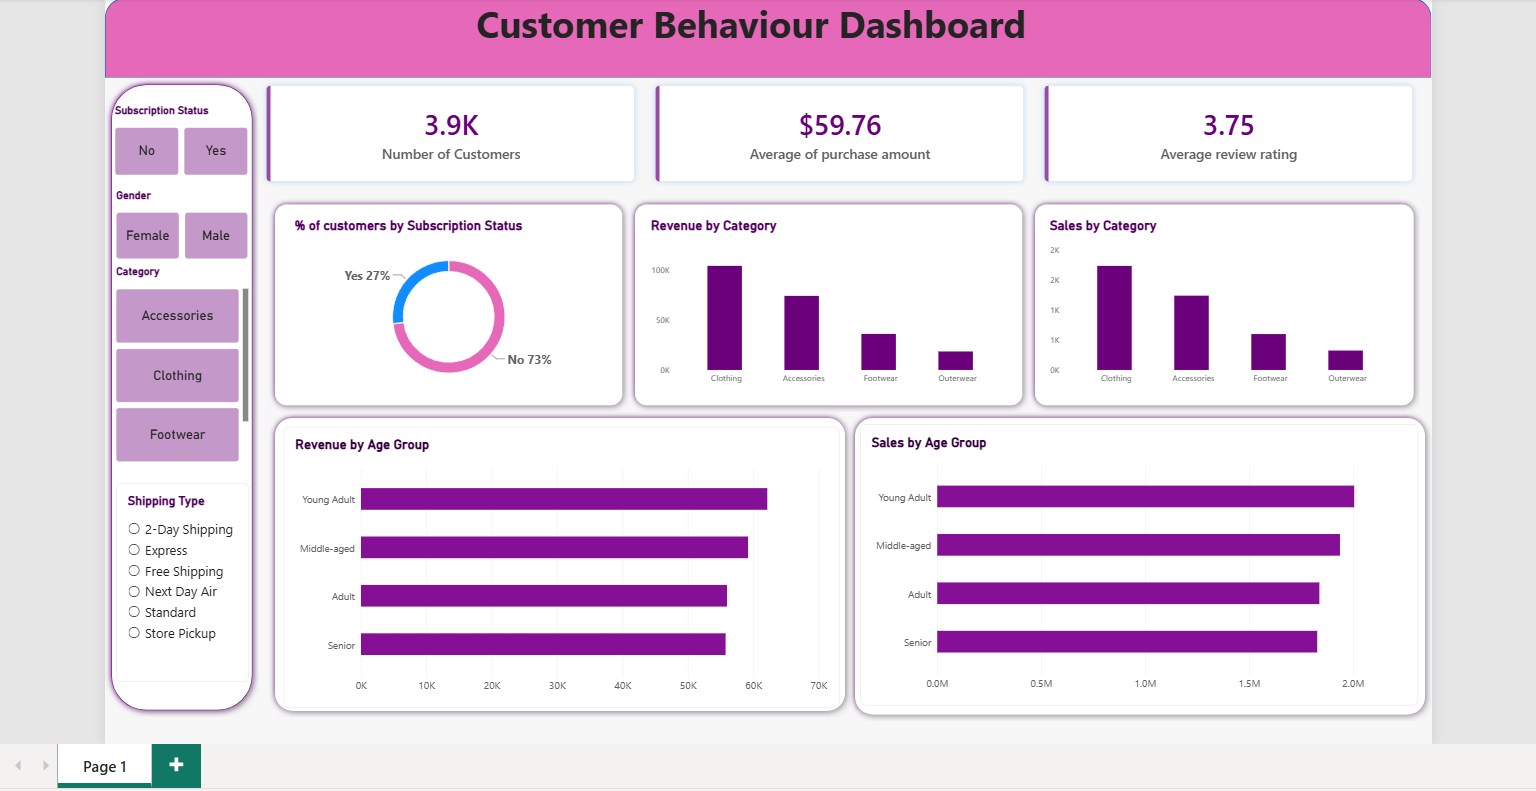

What the dashboard file says about the page in this screenshot:
{"tool":"powerbi","page":{"name":"Page 1","canvas":[1920,1080],"ordinal":0},"visuals":[{"type":"cardVisual","fields":{"Data":["customer_sales customer_data.Number of Customers","customer_sales customer_data.Average of purchase amount","customer_sales customer_data.Average review rating"]},"box":[222.6,115.8,1681.2,161.1],"z":0},{"type":"shape","box":[0,0,1920.4,115.5],"z":1000},{"type":"textbox","box":[0,0,1871.1,115.5],"z":2000},{"type":"shape","box":[237.1,289.5,521.2,309.5],"z":3000},{"type":"donutChart","title":"% of customers by Subscription Status","fields":{"Category":["customer_sales customer_data.subscription_status"],"Y":["CountNonNull(customer_sales customer_data.customer_id)"]},"box":[258.8,304,477.8,278.7],"z":4000},{"type":"shape","box":[758.2,289.5,579.1,309.5],"z":5000},{"type":"shape","box":[1337.3,289.5,566.4,309.5],"z":6000},{"type":"clusteredColumnChart","title":"Revenue by Category","fields":{"Category":["customer_sales customer_data.category"],"Y":["Sum(customer_sales customer_data.purchase_amount)"]},"box":[774.5,304,548.3,275.1],"z":7000},{"type":"clusteredColumnChart","title":"Sales by Category","fields":{"Category":["customer_sales customer_data.category"],"Y":["CountNonNull(customer_sales customer_data.customer_id)"]},"box":[1351.8,304,535.7,275.1],"z":8000},{"type":"shape","box":[0,115.8,222.6,924.7],"z":9000},{"type":"advancedSlicerVisual","fields":{"Values":["customer_sales customer_data.subscription_status"]},"box":[14.5,153.8,193.6,103.2],"z":10000},{"type":"advancedSlicerVisual","fields":{"Values":["customer_sales customer_data.gender"]},"box":[16.3,276.9,191.8,101.3],"z":11000},{"type":"advancedSlicerVisual","fields":{"Values":["customer_sales customer_data.category"]},"box":[16.3,387.3,191.8,284.1],"z":12000},{"type":"listSlicer","fields":{"Values":["customer_sales customer_data.shipping_type"]},"box":[16.3,702.1,191.8,287.7],"z":13000},{"type":"shape","box":[236.8,599.3,843.5,442.1],"z":14000},{"type":"clusteredBarChart","title":"Revenue by Age Group","fields":{"Category":["customer_sales customer_data.age_group"],"Y":["Sum(customer_sales customer_data.purchase_amount)"]},"box":[259,621.5,804.6,406.9],"z":15000},{"type":"shape","box":[1076.5,599.3,843.5,447.6],"z":16000},{"type":"clusteredBarChart","title":"Sales by Age Group","fields":{"Category":["customer_sales customer_data.age_group"],"Y":["Sum(customer_sales customer_data.customer_id)"]},"box":[1093.2,617.8,808.3,406.9],"z":17000}]}

Visuals, with their boxes in screenshot pixels (x1, y1, x2, y2):
cardVisual - customer_sales customer_data.Number of Customers x customer_sales customer_data.Average of purchase amount: 251:77:1424:189
shape: 96:0:1436:77
textbox: 96:0:1401:77
shape: 261:198:625:414
"% of customers by Subscription Status" donutChart: 277:208:610:402
shape: 625:198:1029:414
shape: 1029:198:1424:414
"Revenue by Category" clusteredColumnChart: 636:208:1019:400
"Sales by Category" clusteredColumnChart: 1039:208:1413:400
shape: 96:77:251:722
advancedSlicerVisual - customer_sales customer_data.subscription_status: 106:103:241:175
advancedSlicerVisual - customer_sales customer_data.gender: 107:189:241:260
advancedSlicerVisual - customer_sales customer_data.category: 107:266:241:464
listSlicer - customer_sales customer_data.shipping_type: 107:486:241:686
shape: 261:414:850:722
"Revenue by Age Group" clusteredBarChart: 277:430:838:713
shape: 847:414:1435:726
"Sales by Age Group" clusteredBarChart: 859:427:1422:711
